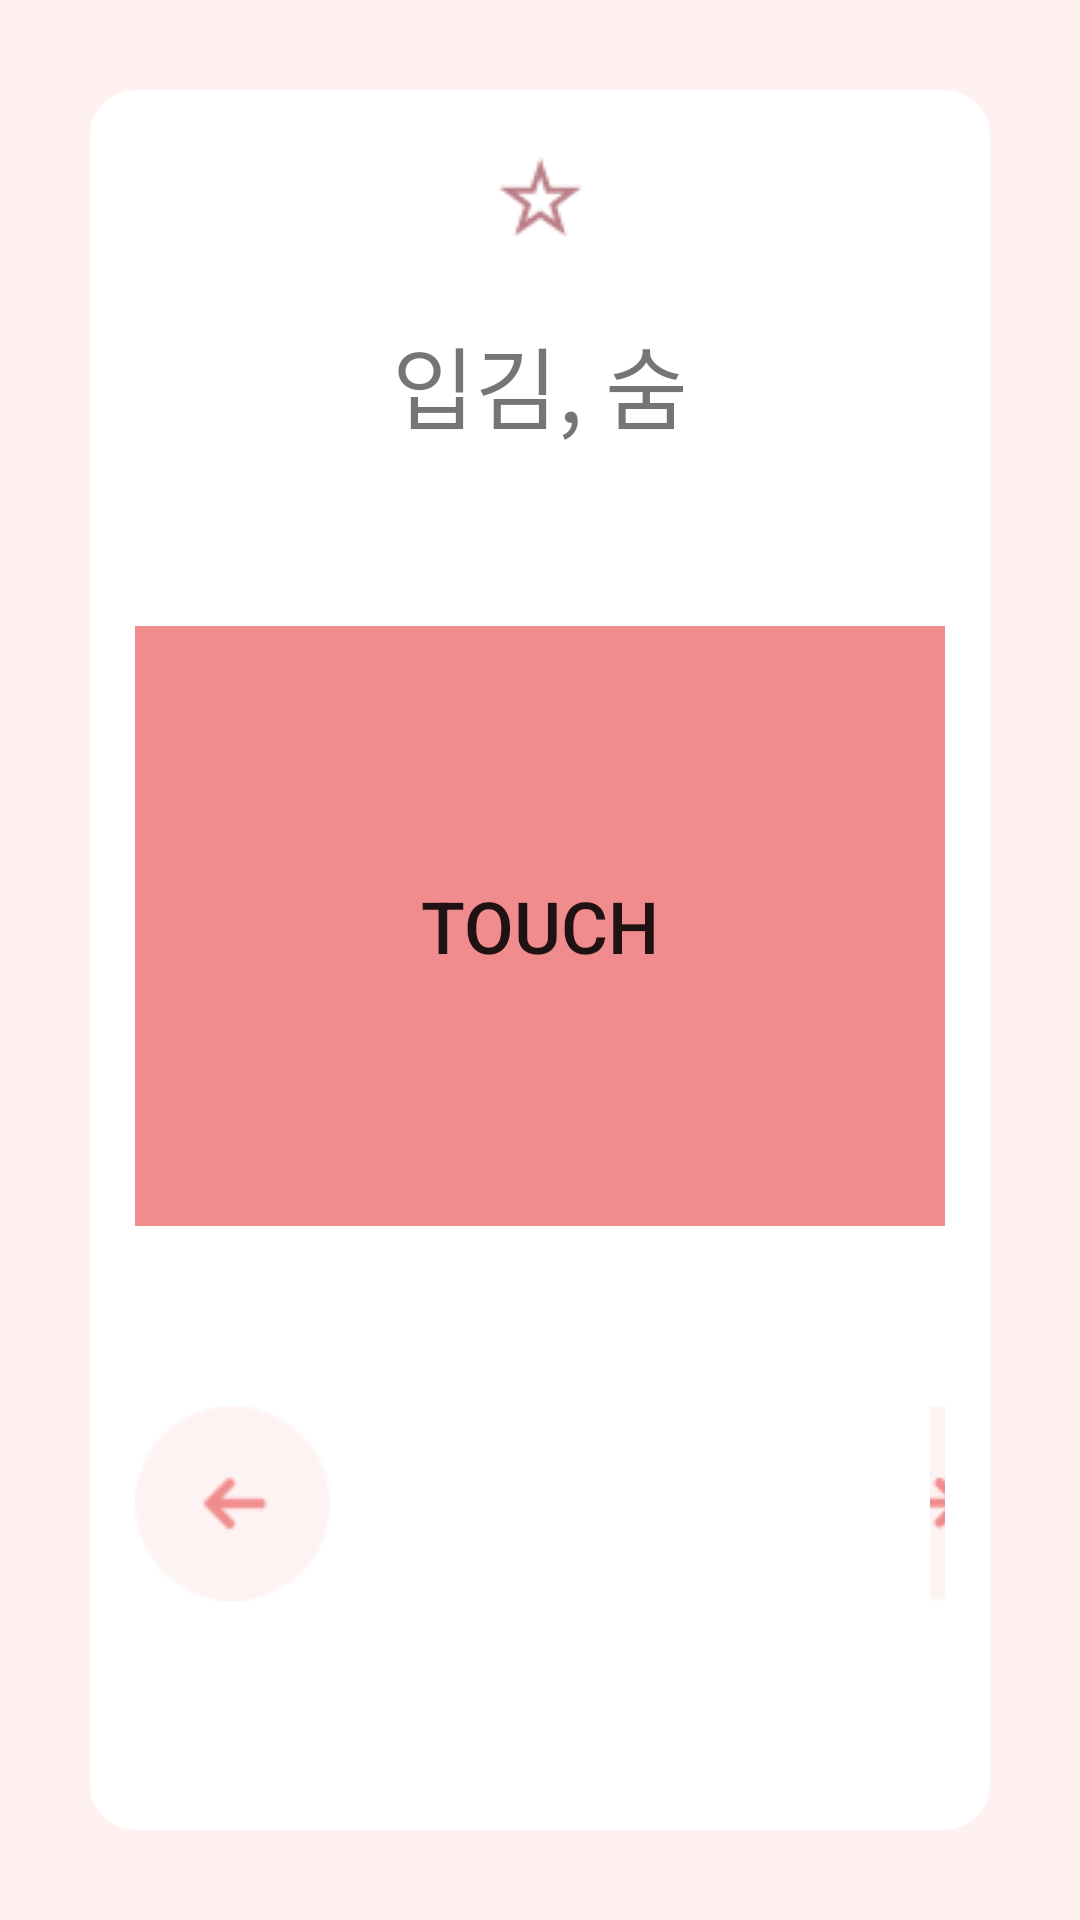

Point at icon controls on the screen. Image size 1080×1920, points as (x=x, y=y).
prev: (x=232, y=1503)
star: (x=540, y=197)
